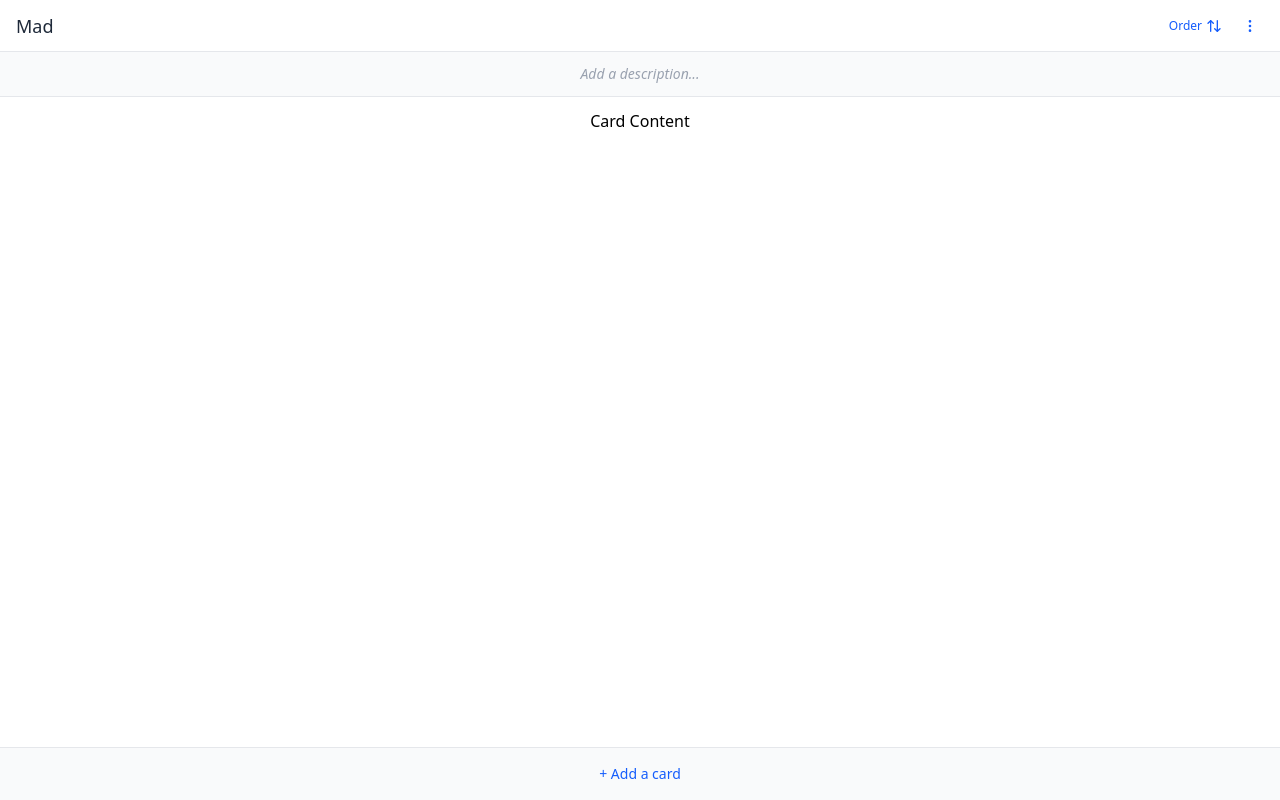
Test: Column › Column menu functionality › shows an enabled delete option for board owners
Open the menu
Click the button with test id "column-menu-column-1" at (1250, 26), box left=1236, top=12, right=1264, bottom=40
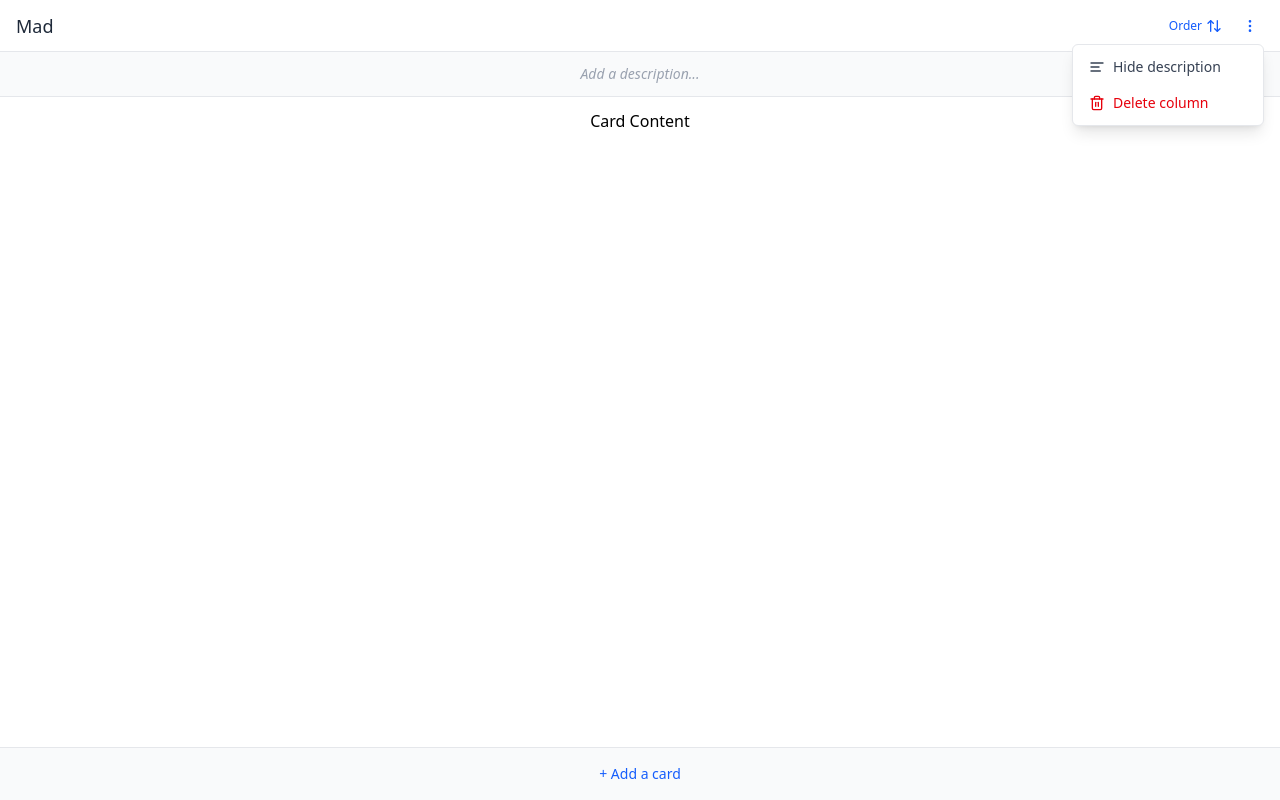
Check: the button with test id "delete-column-column-1" is enabled, box left=1073, top=84, right=1263, bottom=120
